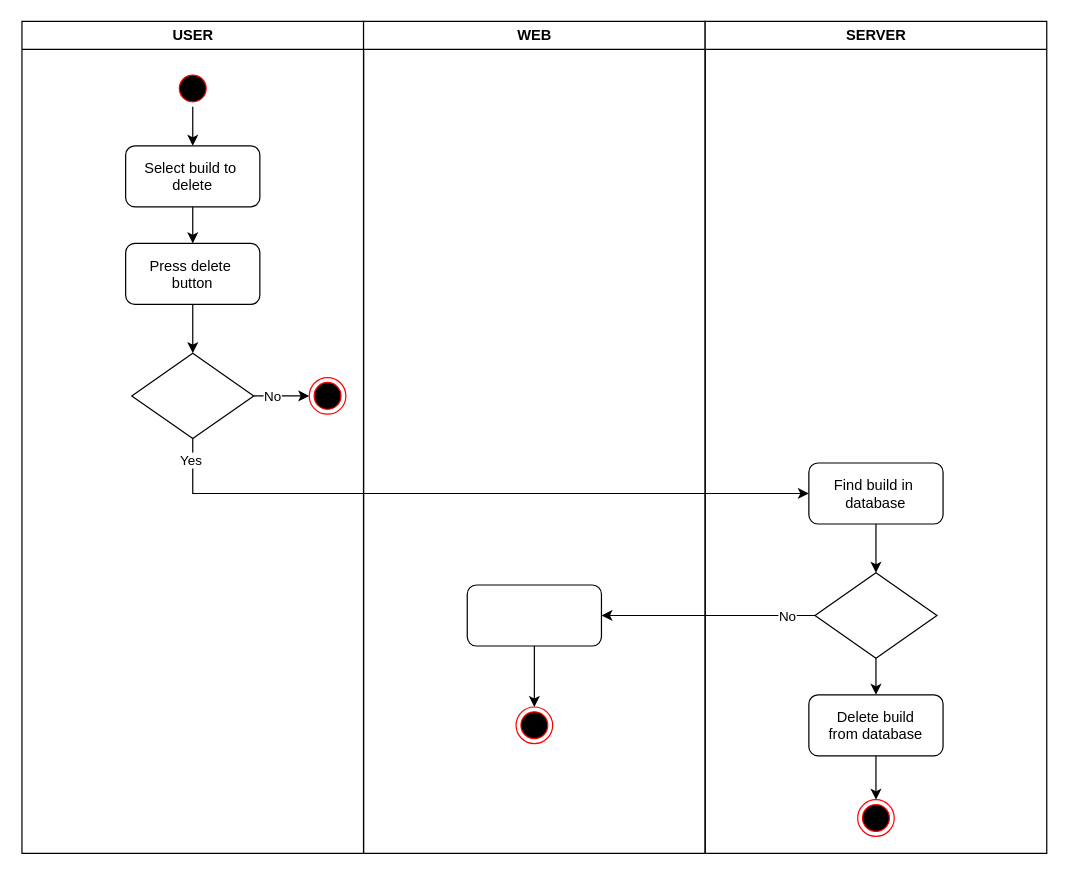
The diagram is 1068 pixels wide and 875 high, and some of its shapes have lost their labels. The centre of each missing label's shape, as x and y in pixels:
"Build exists?" goes at [875,615].
"Confirm delete?" goes at [192,395].
"Show missing build error" goes at [533,615].
